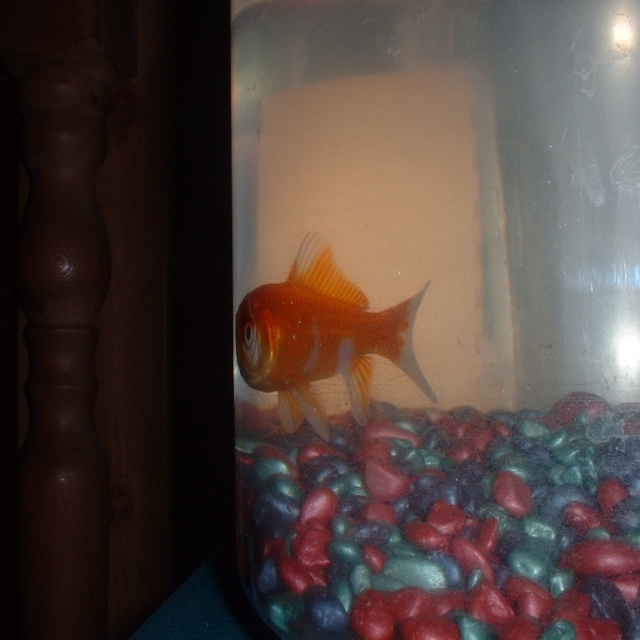Goldfish: (240, 223, 436, 444)
